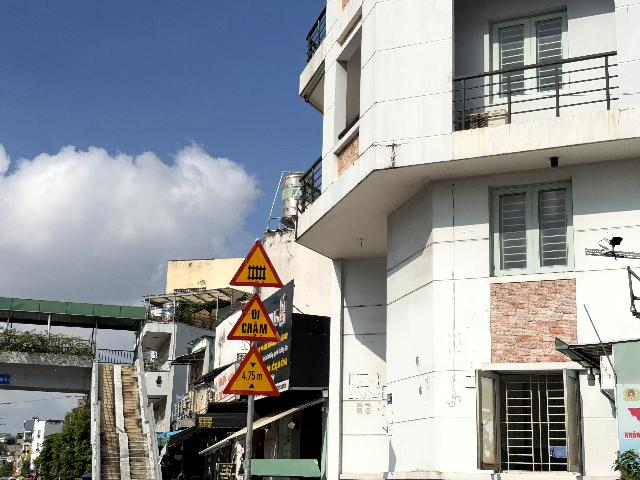chieu-cao-tinh-khong-thuc-te: (222, 344, 281, 396)
di-cham: (225, 292, 281, 343)
noi-giao-nhau-voi-duong-sat-co-rao-chan: (229, 239, 284, 288)
